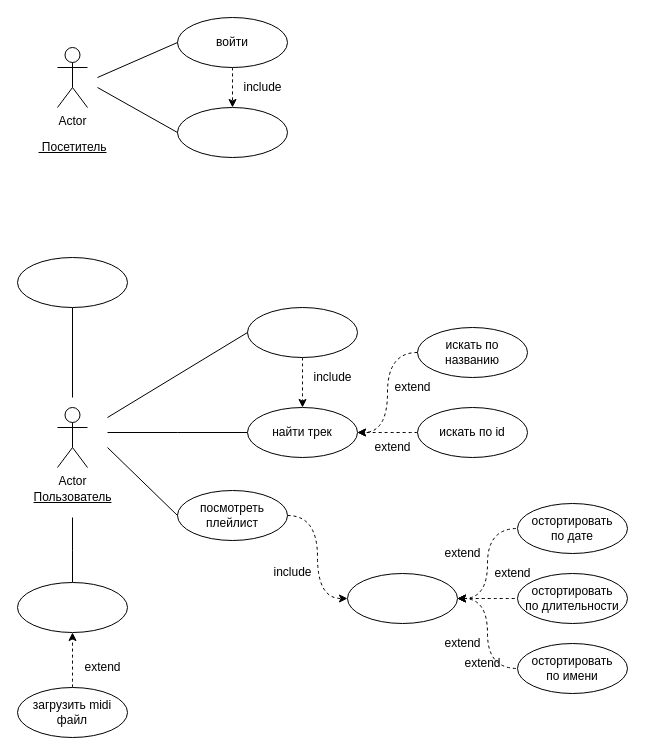
Image size: 645x755. Some labels were removed from this diagram. The shapes that lost their labels are listed below. From the top down, each one's centre as x and y in pixels, then its label:
At [232,132]: "зарегестри- роваться".
At [72,282]: "выйти".
At [302,332]: "посмотреть информацию о треке".
At [72,607]: "добавить трек".
At [402,598]: "остортировать треки".
